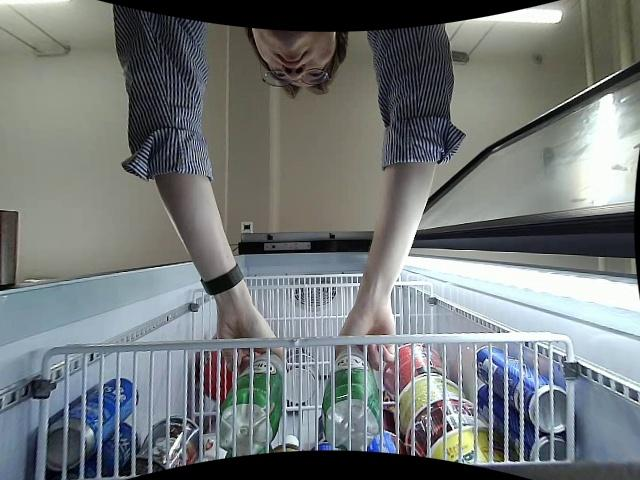00_hand: (218, 307, 282, 371), (336, 312, 396, 370)
18_trevi: (321, 348, 382, 449), (222, 356, 284, 454)
